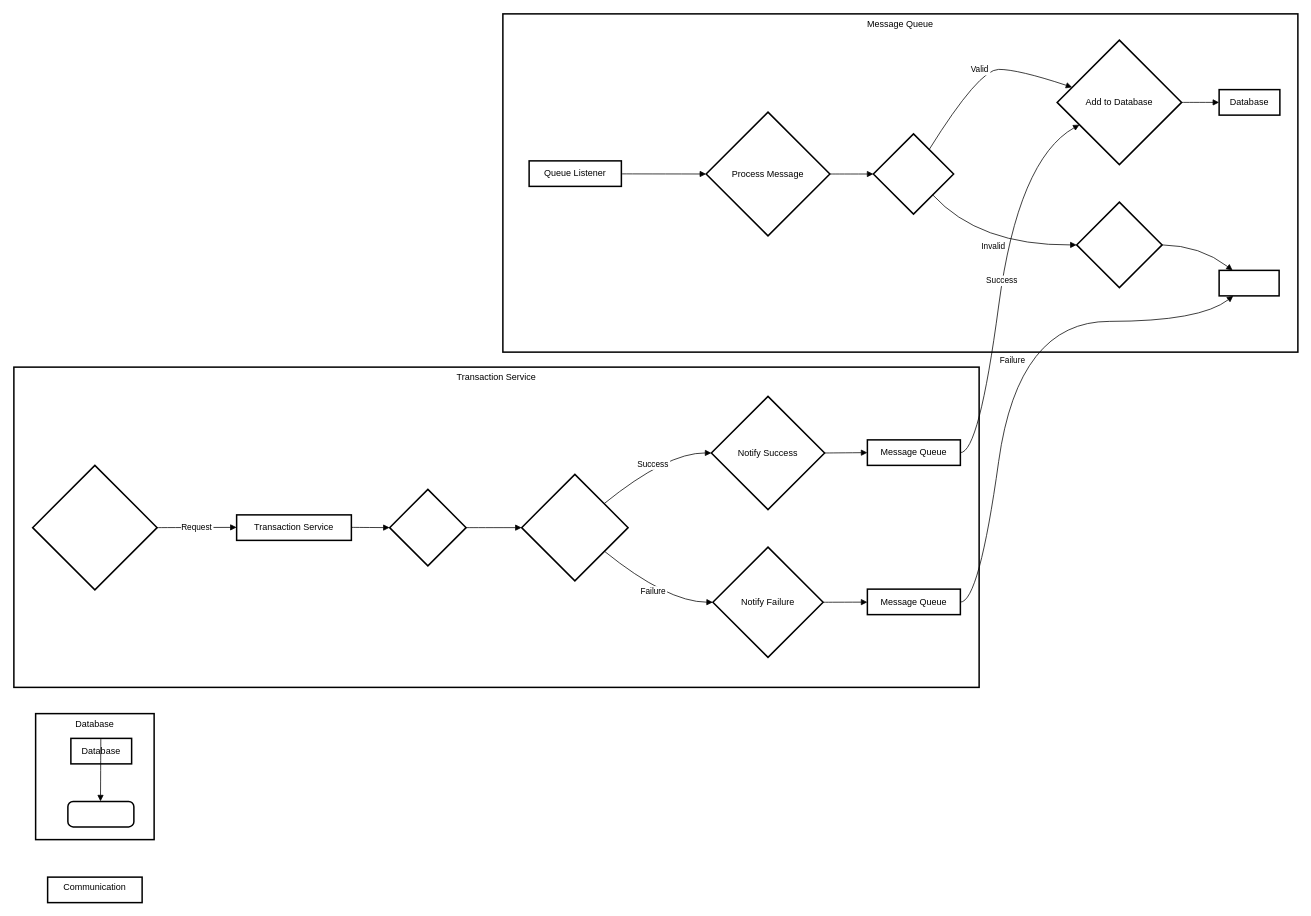
Image size: 1311x916. Some labels were removed from this diagram. Each missing label, with the centre of its shape:
"Error Log" goes at (1249,282).
"Log Error" goes at (1119,244).
"Prepare Data" goes at (574,527).
"Process" goes at (427,527).
"Read Data" goes at (100,813).
"Receive Request" goes at (95,527).
"Validate" goes at (913,173).
